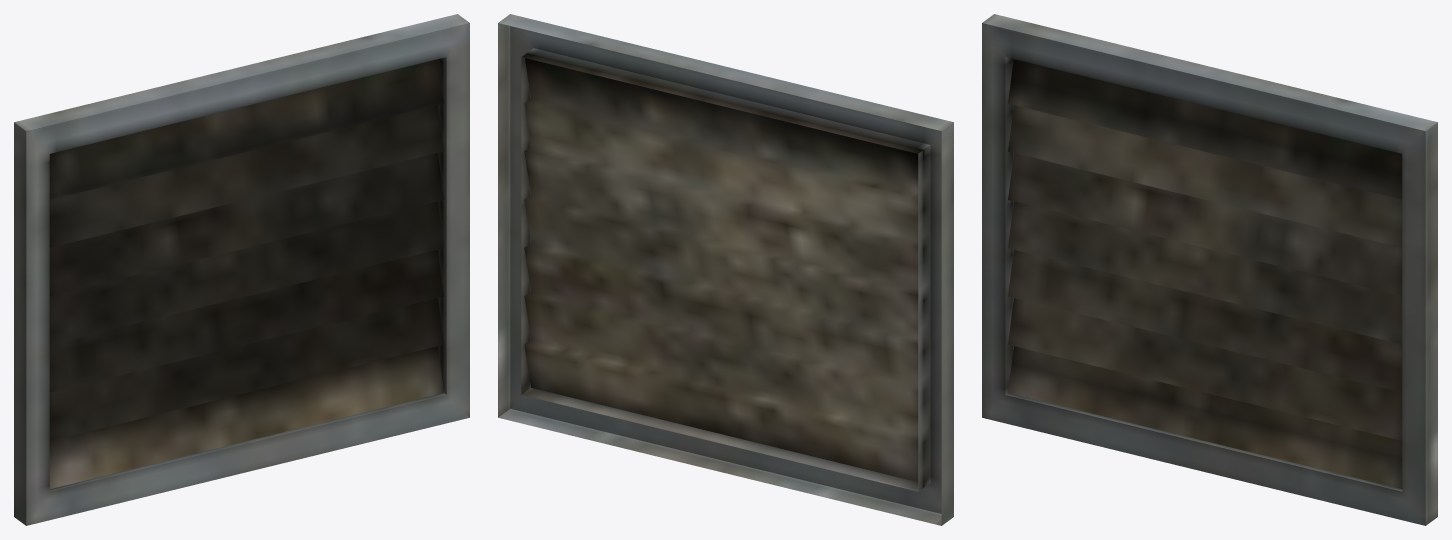
The model's file is Vent_02.FBX.
The picture shows the model from 3 angles, left to right: view 1: azimuth 30°, elevation 25°; view 2: azimuth 150°, elevation 25°; view 3: azimuth 330°, elevation 25°; orthographic projection.
Visible parts, largest first — view 1: Vent_02; view 2: Vent_02; view 3: Vent_02.
Part boxes in pixels (left/top/right/bottom): Vent_02: left=14, top=14, right=469, bottom=525; Vent_02: left=498, top=14, right=953, bottom=525; Vent_02: left=982, top=14, right=1437, bottom=525.
Bounding box in the file's own units: 74.72 × 63.53 × 3.58.
